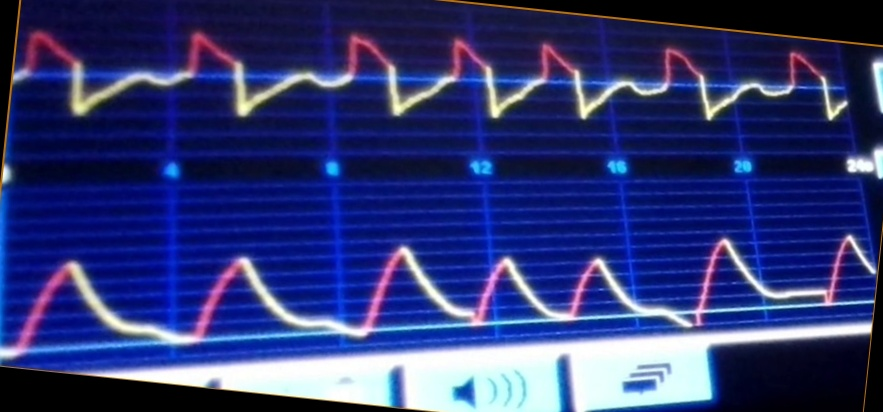Ineffective_effort Flow: (18, 23, 846, 133)
Ineffective_effort Volume: (1, 229, 873, 347)
